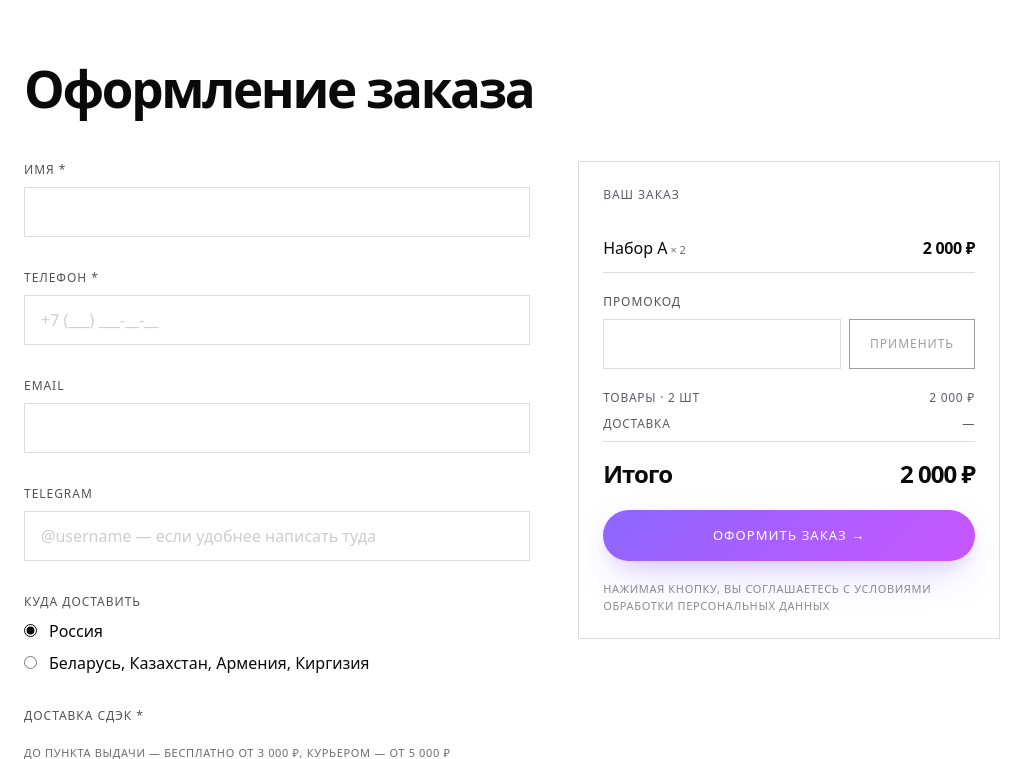
/checkout page › masks the phone as +7 (XXX) XXX-XX-XX while typing
Type "89123456789" into the field labelled "Телефон *" at x=277, y=320, box [24, 295, 530, 345]
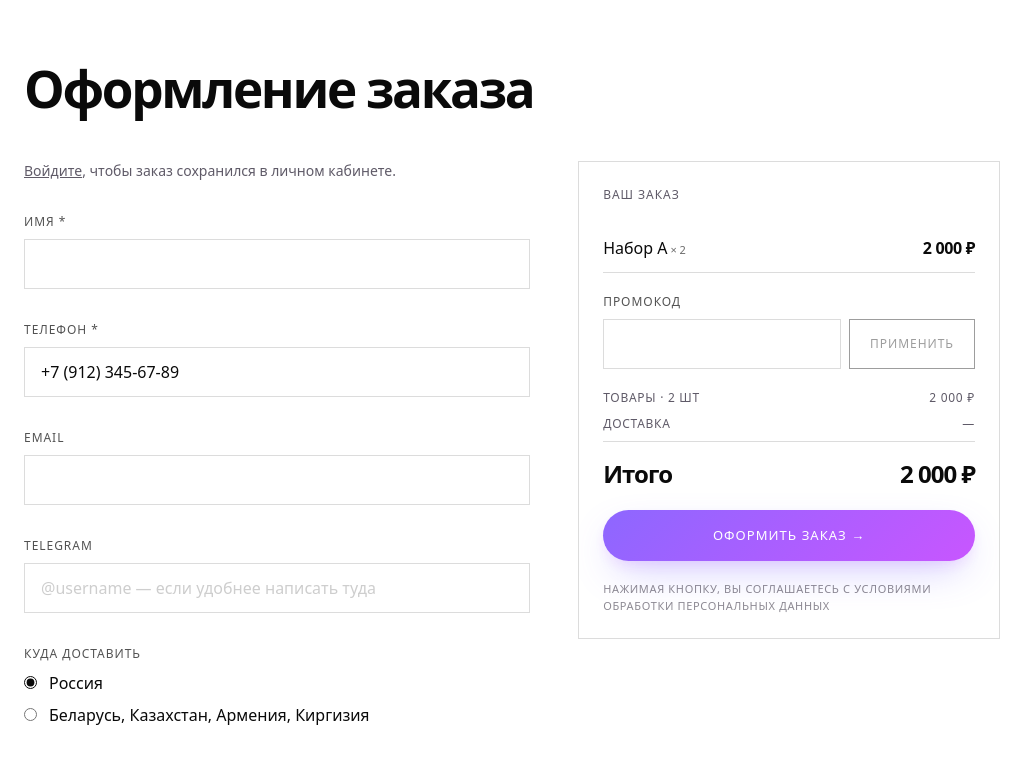
Expected: the field labelled "Телефон *" holds "+7 (912) 345-67-89", [24, 347, 530, 397]
